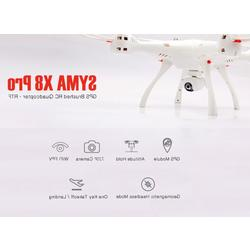drone: (103, 33, 250, 118)
